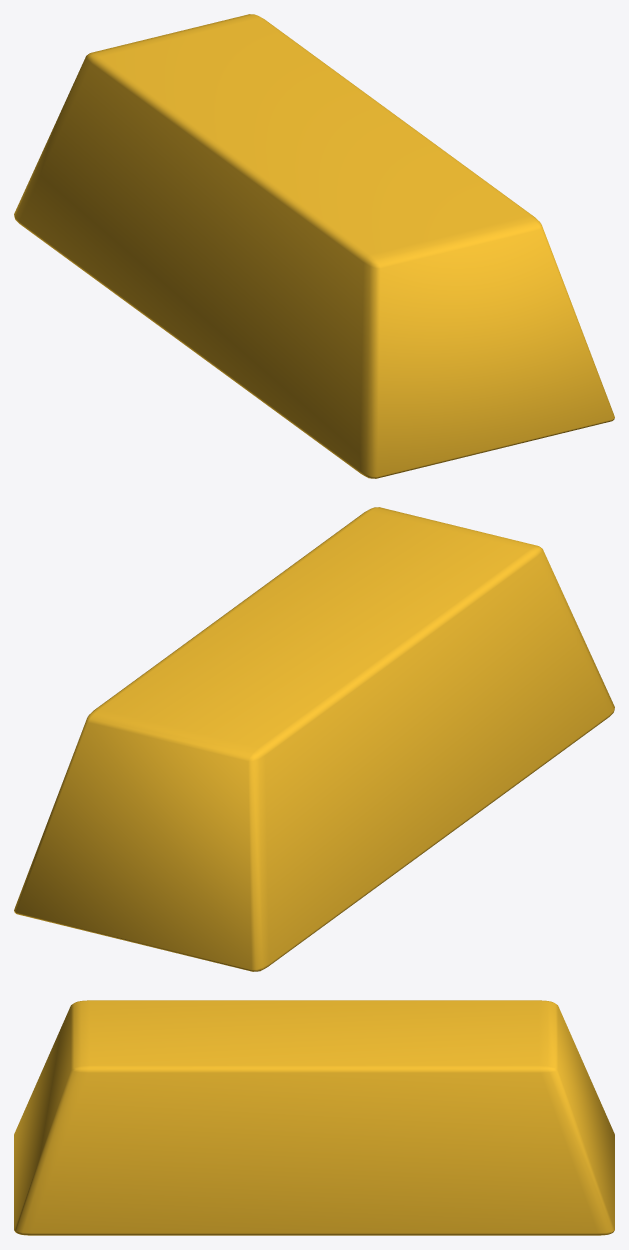
The model's file is Gold_3.fbx.
The picture shows the model from 3 angles, top to bottom: view 1: azimuth 30°, elevation 25°; view 2: azimuth 150°, elevation 25°; view 3: azimuth 270°, elevation 25°; orthographic projection. The views are drawn at different scales.
Parts seen in each view (by area): view 1: Cube.207; view 2: Cube.207; view 3: Cube.207.
Boxes of the visible parts, x1=… form: Cube.207: x1=14, y1=14, x2=614, y2=478; Cube.207: x1=14, y1=507, x2=614, y2=971; Cube.207: x1=14, y1=1000, x2=614, y2=1235.
Size of the model in its own units: 0.7939 by 0.56 by 1.99.
Materials: 1 (1 with a texture image).
